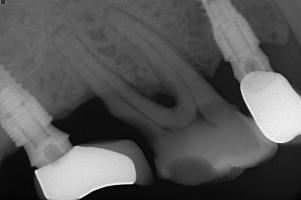Endo-Periodontal Lesion: (127, 69, 174, 107)
